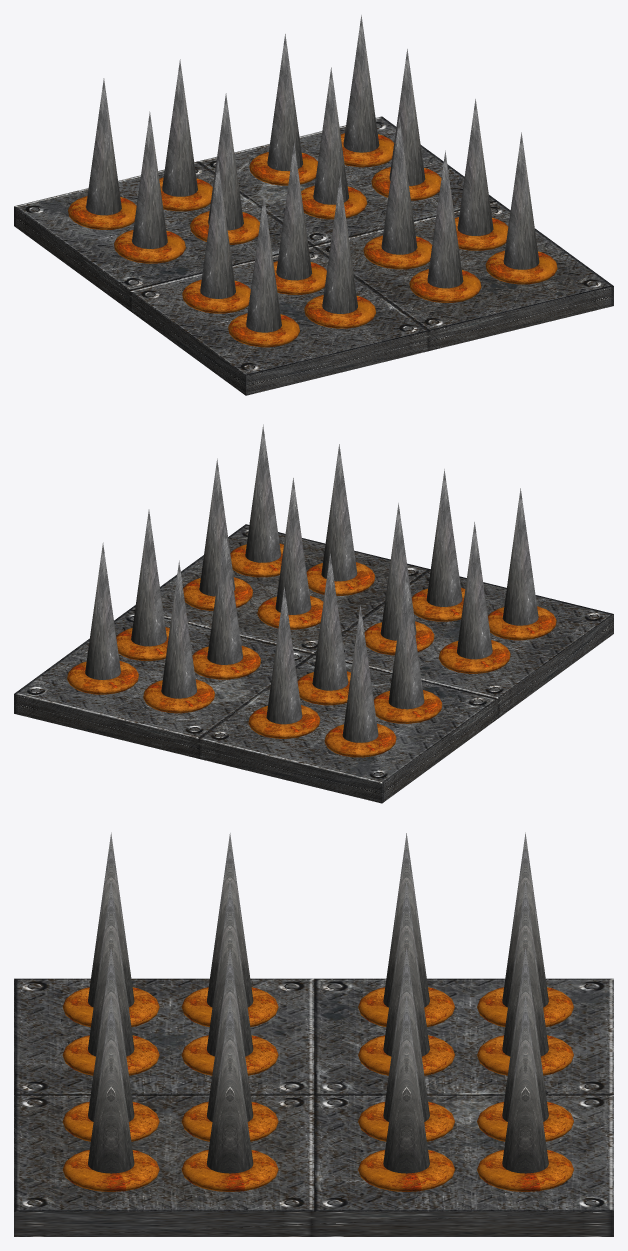
Rendered from Armadilhas.fbx.
3 renders of one model, top to bottom at view 1: azimuth 30°, elevation 25°; view 2: azimuth 150°, elevation 25°; view 3: azimuth 270°, elevation 25°, orthographic. The views are drawn at different scales.
Visible parts, largest first — view 1: Armadilha, Espinho_da_Armadilha, Espinho_da_Armadilha14, Espinho_da_Armadilha13, Espinho_da_Armadilha10, Espinho_da_Armadilha1, Espinho_da_Armadilha2, Espinho_da_Armadilha12, Espinho_da_Armadilha11, Espinho_da_Armadilha7, Espinho_da_Armadilha6, Espinho_da_Armadilha8 (+5 smaller); view 2: Armadilha, Espinho_da_Armadilha4, Espinho_da_Armadilha11, Espinho_da_Armadilha7, Espinho_da_Armadilha8, Espinho_da_Armadilha12, Espinho_da_Armadilha10, Espinho_da_Armadilha6, Espinho_da_Armadilha13, Espinho_da_Armadilha1, Espinho_da_Armadilha2, Espinho_da_Armadilha (+5 smaller); view 3: Armadilha, Espinho_da_Armadilha5, Espinho_da_Armadilha, Espinho_da_Armadilha3, Espinho_da_Armadilha4, Espinho_da_Armadilha14, Espinho_da_Armadilha15, Espinho_da_Armadilha8, Espinho_da_Armadilha9, Espinho_da_Armadilha6, Espinho_da_Armadilha1, Espinho_da_Armadilha13 (+5 smaller).
Part boxes in pixels (x1,y1,x2,y2): Armadilha: [14, 116, 613, 395]; Espinho_da_Armadilha: [485, 132, 557, 284]; Espinho_da_Armadilha14: [304, 176, 375, 328]; Espinho_da_Armadilha13: [228, 195, 299, 347]; Espinho_da_Armadilha10: [114, 111, 185, 263]; Espinho_da_Armadilha1: [409, 150, 481, 302]; Espinho_da_Armadilha2: [363, 116, 432, 269]; Espinho_da_Armadilha12: [182, 161, 250, 313]; Espinho_da_Armadilha11: [68, 78, 136, 229]; Espinho_da_Armadilha7: [249, 34, 317, 185]; Espinho_da_Armadilha6: [301, 67, 367, 219]; Espinho_da_Armadilha8: [159, 59, 212, 211]; Armadilha: [14, 524, 613, 803]; Espinho_da_Armadilha4: [67, 542, 138, 694]; Espinho_da_Armadilha11: [324, 605, 396, 757]; Espinho_da_Armadilha7: [143, 560, 214, 713]; Espinho_da_Armadilha8: [248, 587, 320, 738]; Espinho_da_Armadilha12: [438, 522, 510, 673]; Espinho_da_Armadilha10: [373, 571, 442, 723]; Espinho_da_Armadilha6: [192, 527, 260, 679]; Espinho_da_Armadilha13: [488, 488, 556, 640]; Espinho_da_Armadilha1: [306, 444, 375, 595]; Espinho_da_Armadilha2: [257, 478, 323, 629]; Espinho_da_Armadilha: [230, 424, 283, 577]; Armadilha: [14, 978, 613, 1236]; Espinho_da_Armadilha5: [358, 996, 455, 1191]; Espinho_da_Armadilha: [62, 995, 159, 1191]; Espinho_da_Armadilha3: [181, 995, 278, 1191]; Espinho_da_Armadilha4: [477, 995, 573, 1191]; Espinho_da_Armadilha14: [62, 880, 159, 1075]; Espinho_da_Armadilha15: [181, 881, 278, 1075]; Espinho_da_Armadilha8: [477, 880, 573, 1075]; Espinho_da_Armadilha9: [358, 881, 454, 1075]; Espinho_da_Armadilha6: [358, 948, 454, 1141]; Espinho_da_Armadilha1: [62, 947, 159, 1141]; Espinho_da_Armadilha13: [62, 832, 159, 1027].
Size of the model in its own units: 5.5 by 2.29 by 6.
3 materials, 3 textured.
